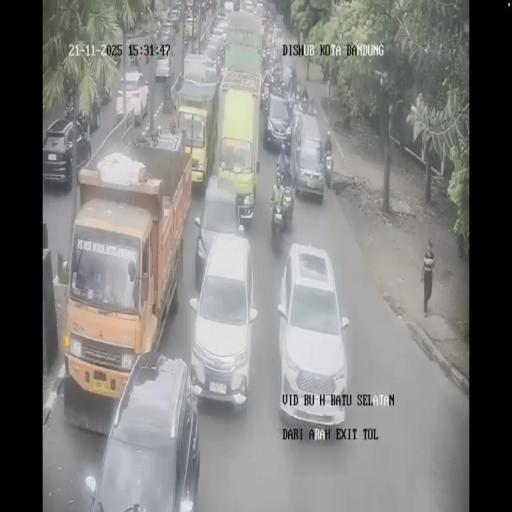car: (277, 242, 348, 426), (194, 173, 245, 277), (42, 116, 92, 190), (291, 112, 328, 202), (264, 90, 294, 152), (117, 70, 149, 124), (69, 88, 102, 134), (202, 36, 226, 78), (98, 77, 111, 104), (158, 22, 172, 46), (215, 7, 229, 28), (271, 25, 283, 49), (169, 7, 180, 29), (184, 0, 194, 19), (244, 0, 255, 14), (224, 0, 234, 14), (256, 1, 264, 14)
motorcycle: (270, 188, 286, 237), (295, 80, 308, 111), (129, 42, 141, 66), (260, 81, 270, 109), (262, 45, 272, 71), (283, 136, 292, 163), (286, 90, 296, 114), (152, 30, 160, 60), (307, 96, 316, 117), (170, 26, 176, 49), (183, 28, 189, 45)
truck: (65, 139, 191, 405), (173, 67, 220, 193), (223, 9, 263, 83), (155, 48, 172, 82)
